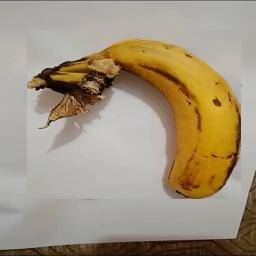Banana Semifresh: (27, 30, 241, 199)
